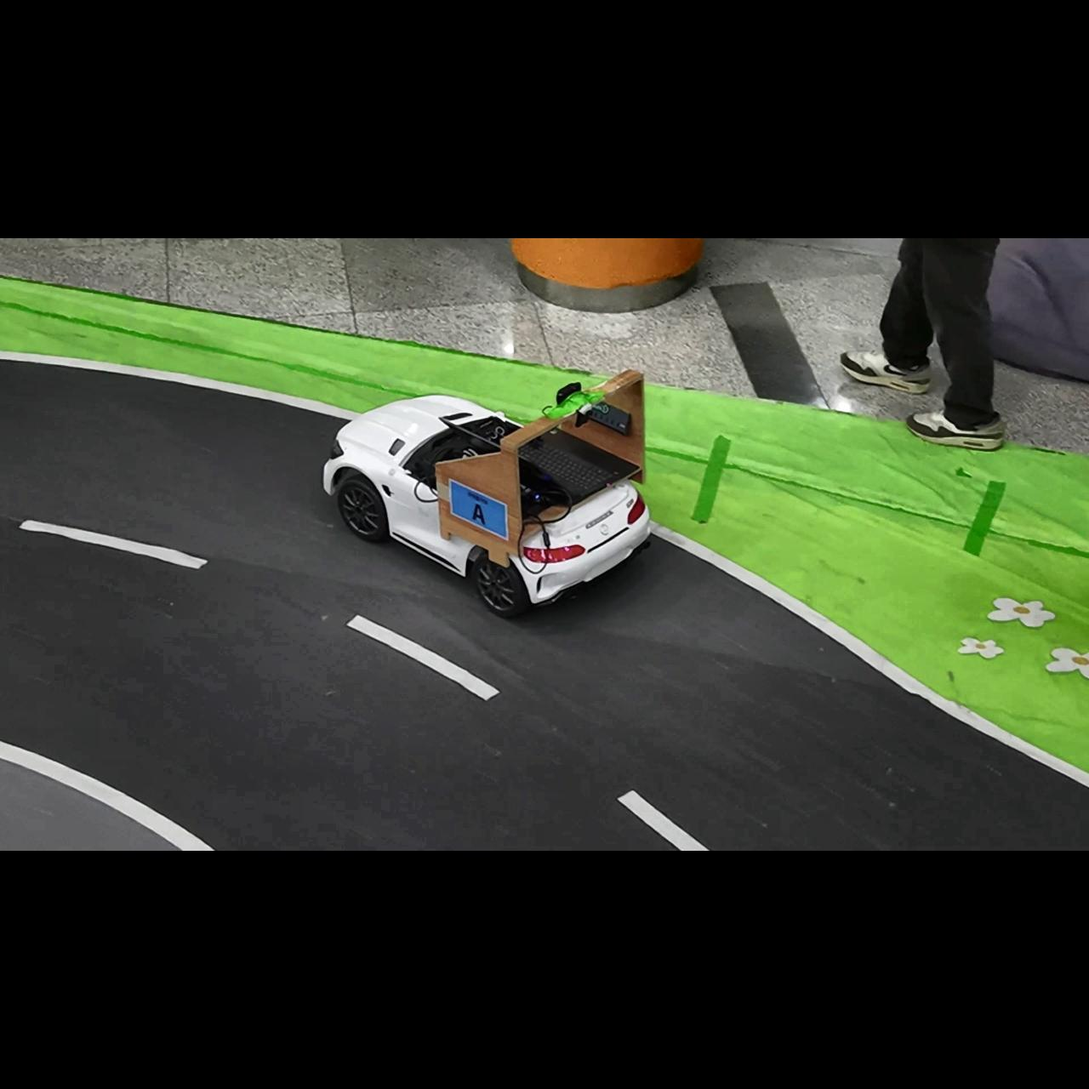broken_line: (346, 614, 500, 701), (19, 520, 208, 570), (617, 790, 709, 850)
